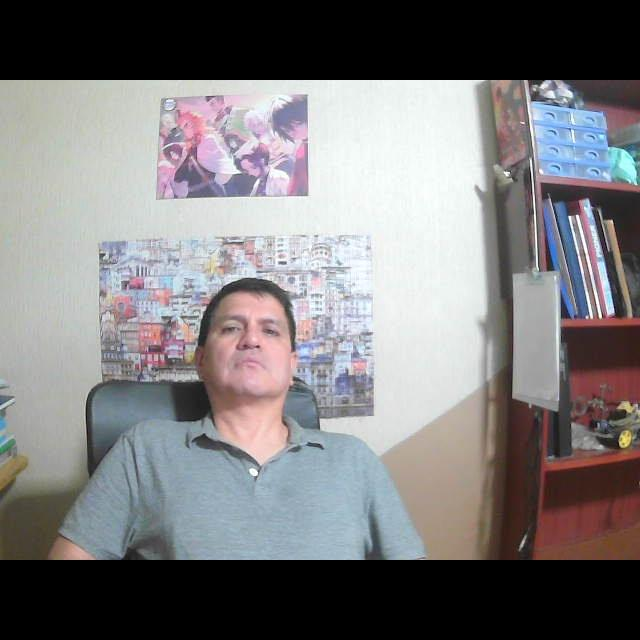cesar: (170, 266, 320, 432)
